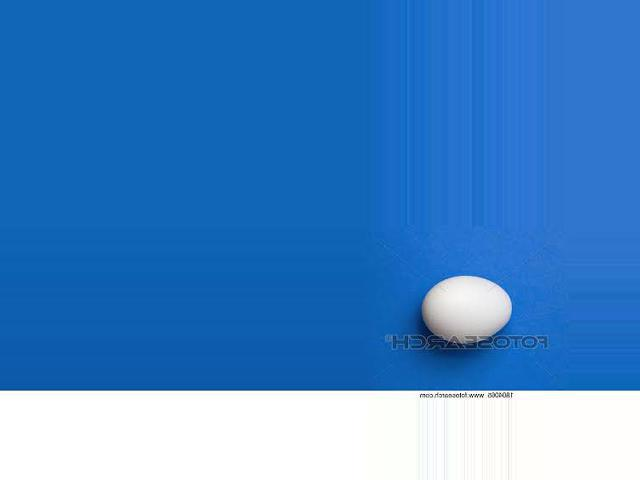egg: (421, 276, 511, 346)
